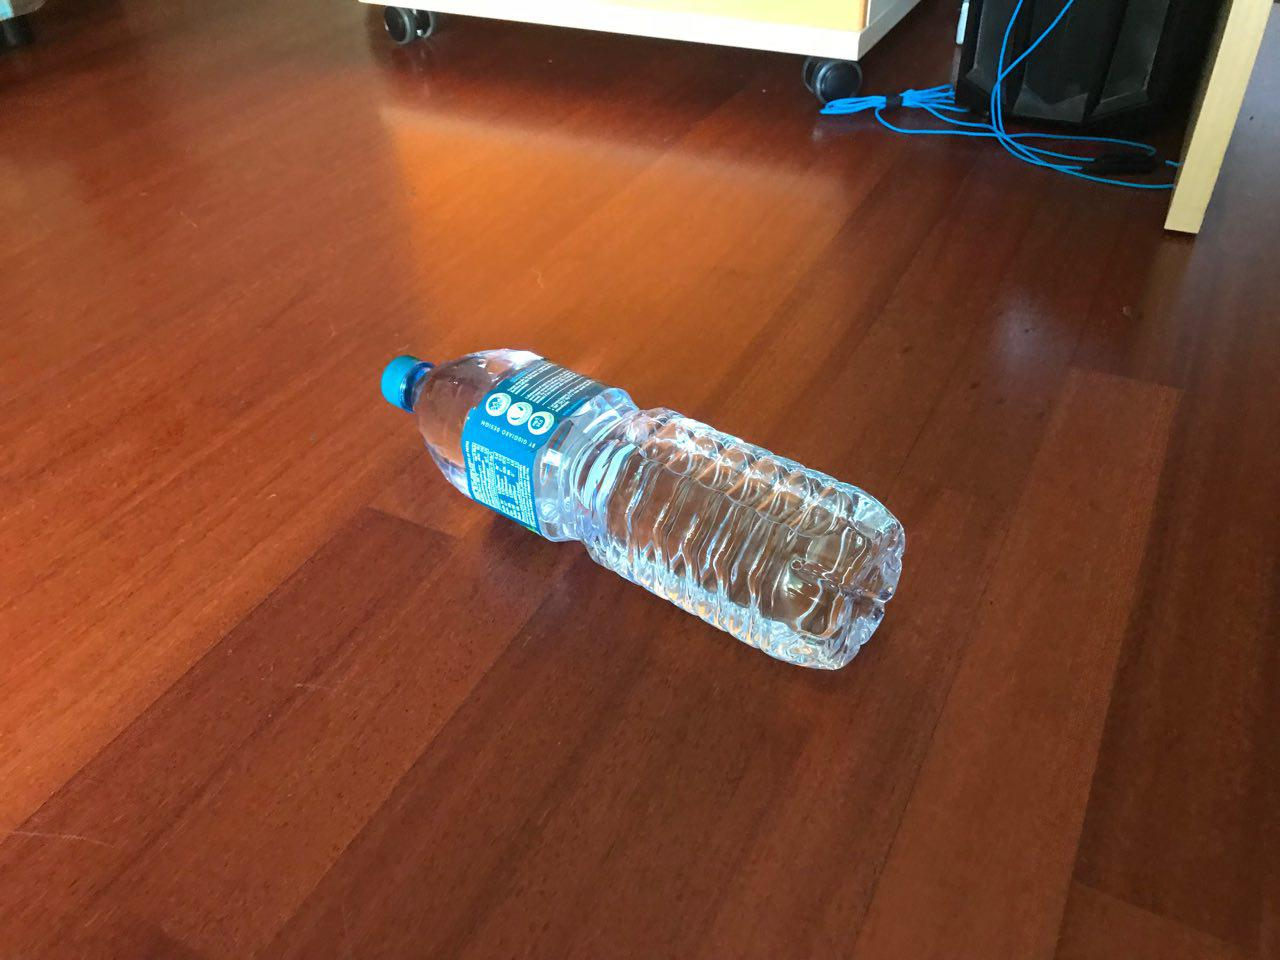san_bernardo: (378, 346, 907, 673)
